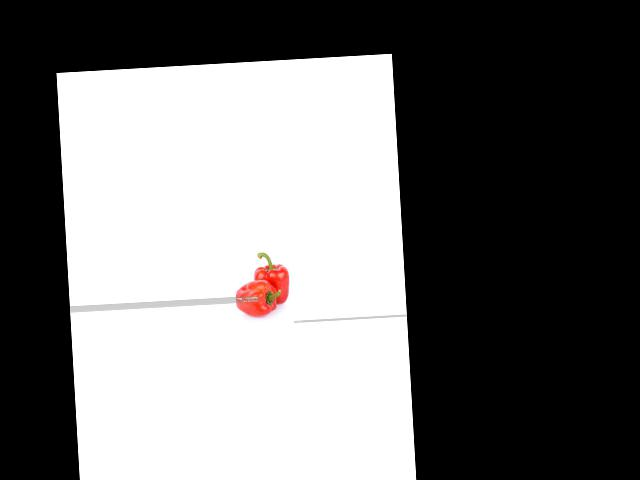bell_pepper: (229, 275, 281, 317)
